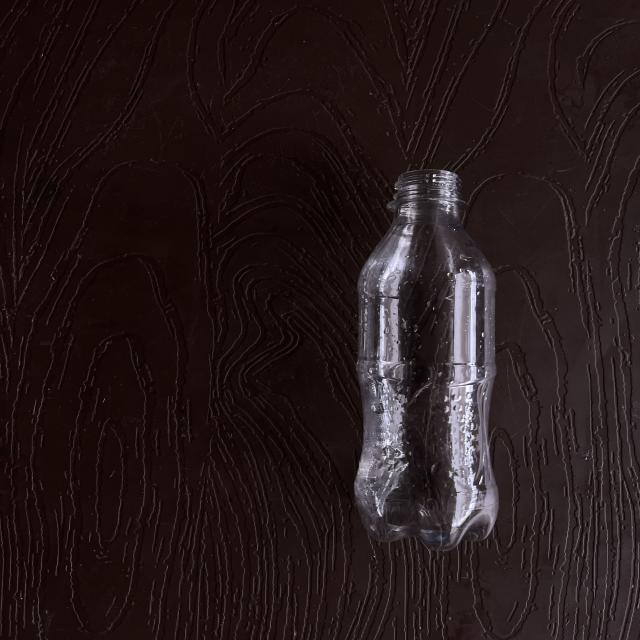PET_With_Liquid: (356, 172, 497, 549)
